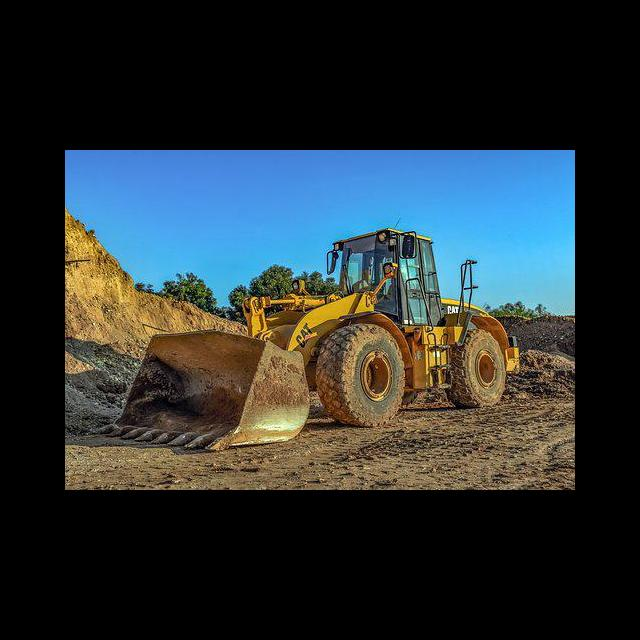wheel loader: (88, 220, 520, 452)
